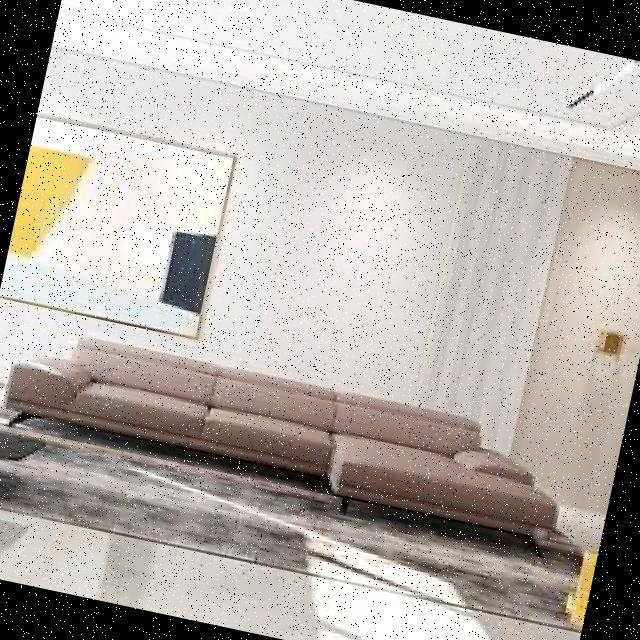Sofa: (0, 295, 607, 574)
